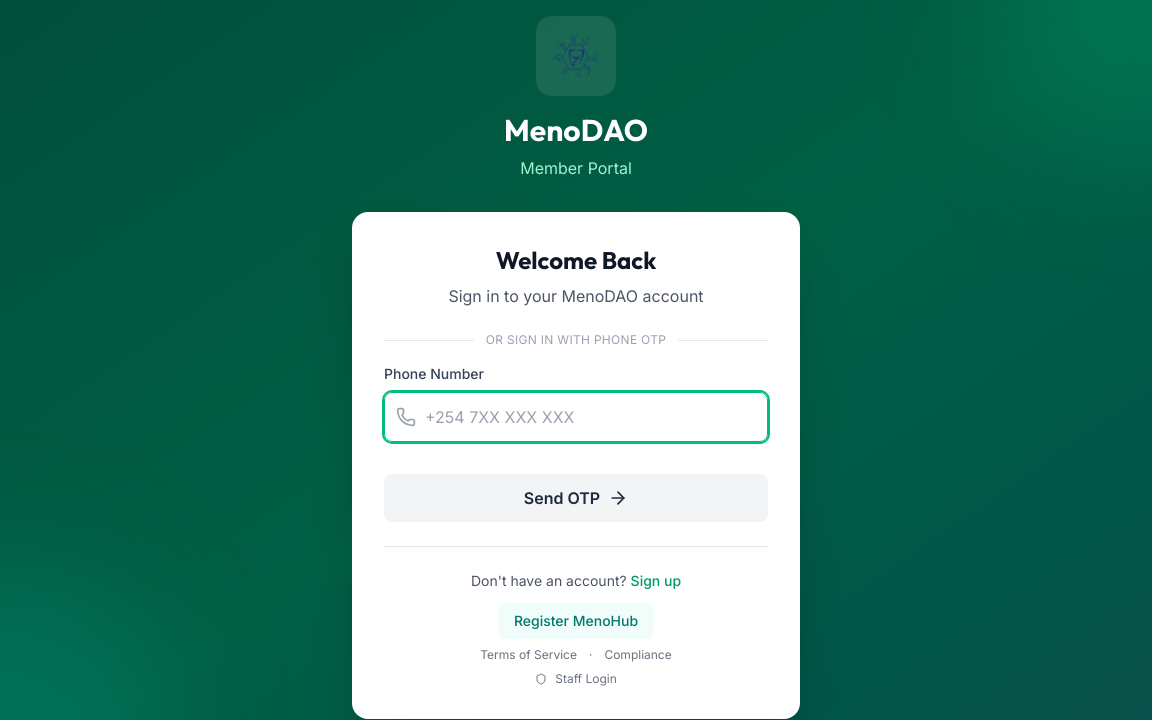
Scenario: LoginPage › Phone Number Form › shows error for non-existent phone number
Type "0712345678" into the field with placeholder "+254 7XX XXX XXX".
click(576, 417); type("0712345678")  # box [384,392,768,442]
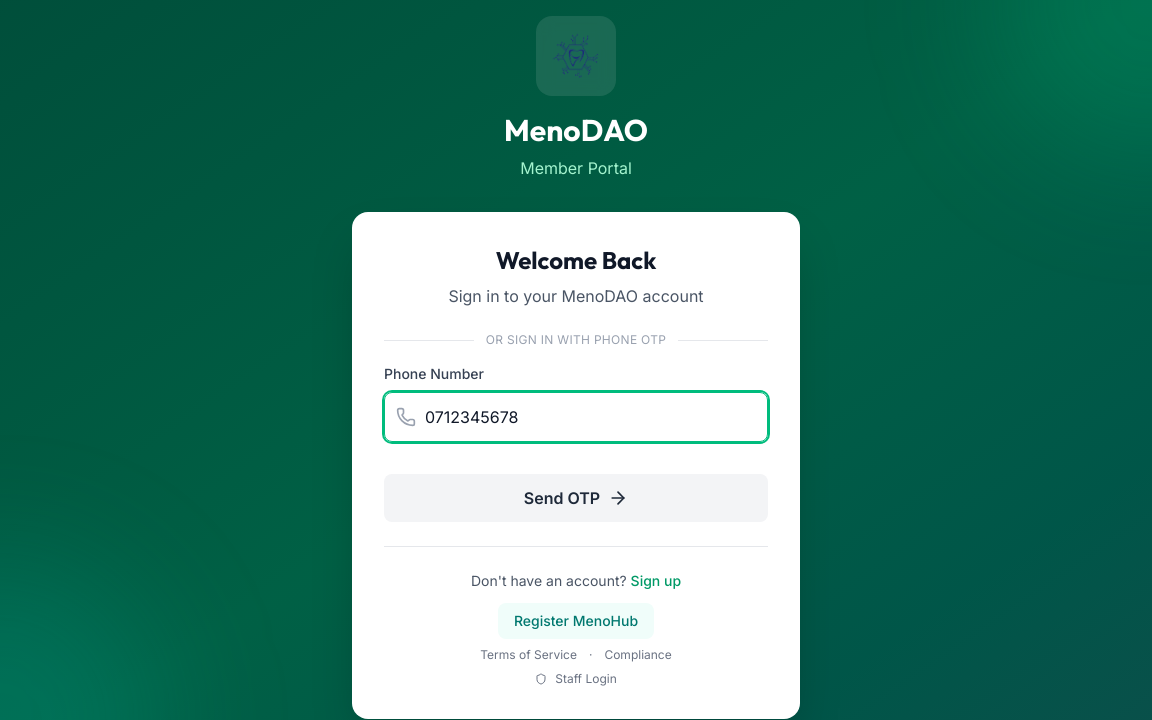
Click the button "Send OTP".
click(576, 498)  # box [384,474,768,522]
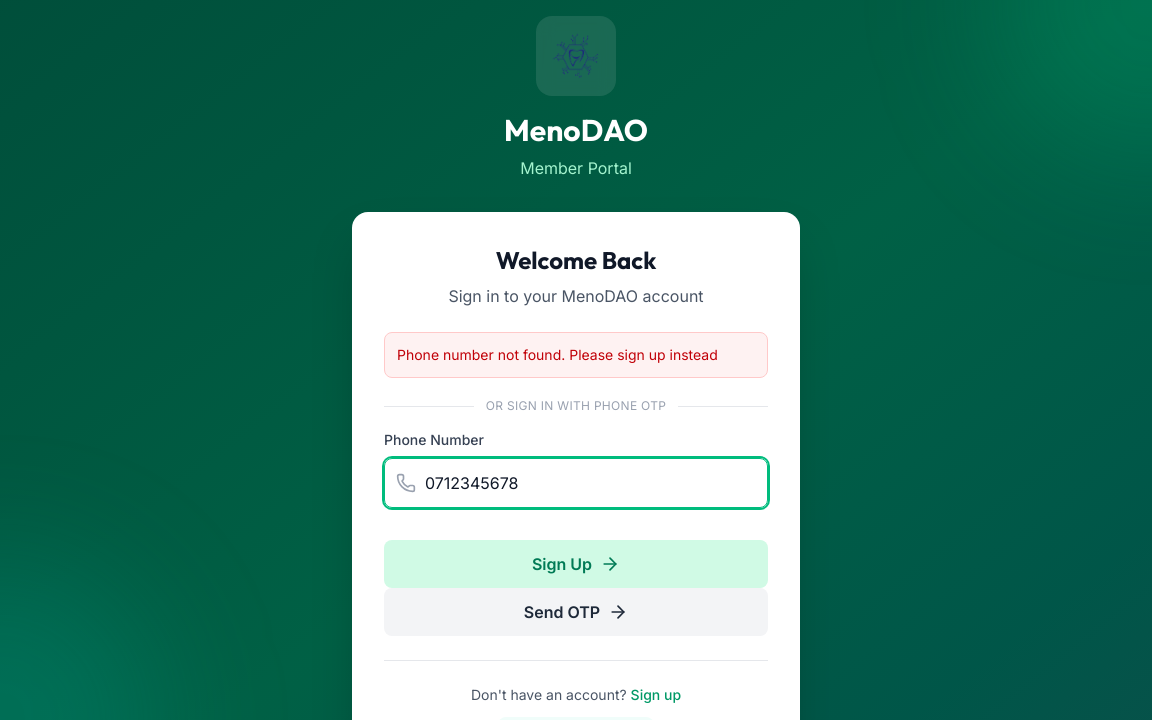
Expected: the text "Phone number not found. Please sign up instead" is shown, [384,332,768,378]
Expected: the button "Sign Up" is shown, [384,540,768,588]
